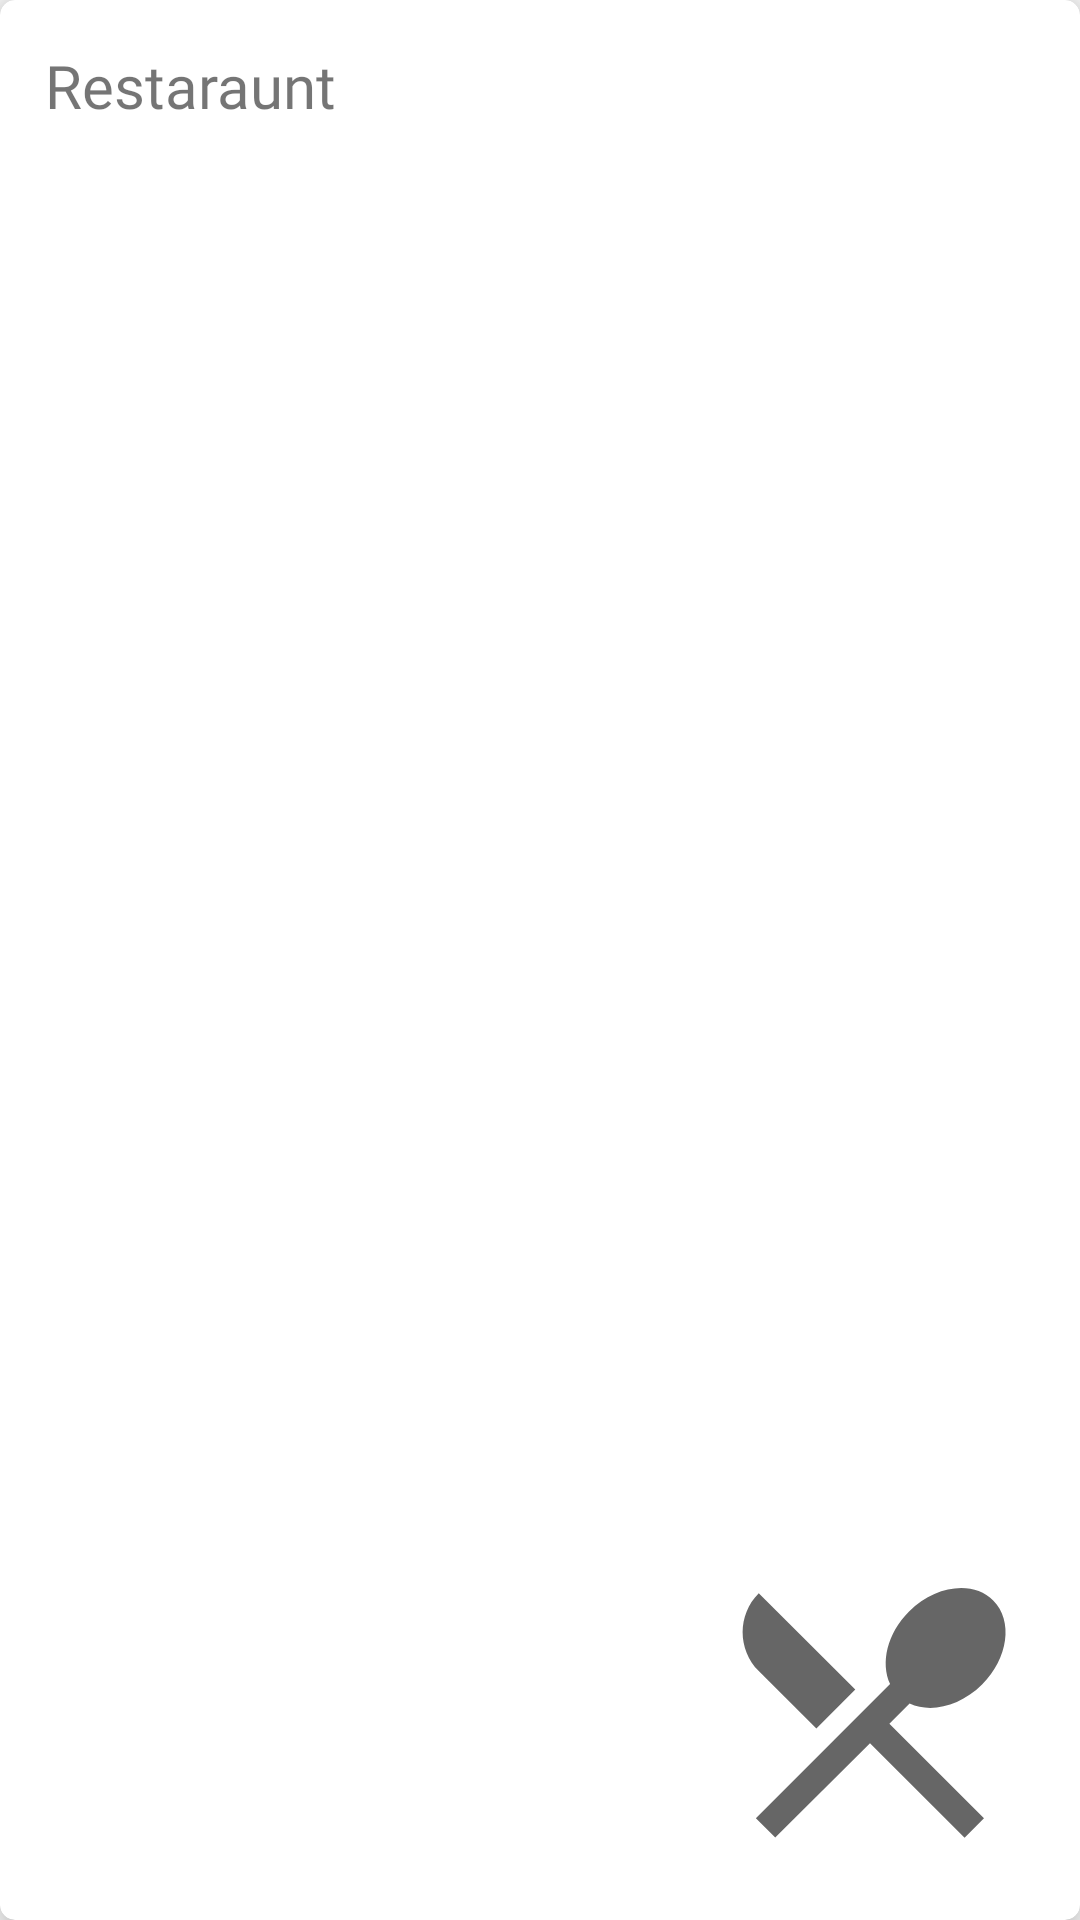

Icon bounding boxes for this 1080w x 1920h phone screenshot, format region(x1, y1, x2, y2):
restaurant menu: region(742, 1588, 1006, 1838)
